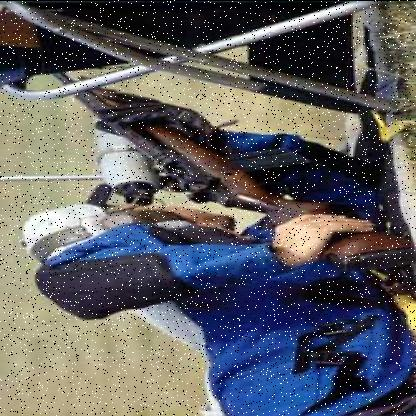rifle: (20, 56, 414, 276)
